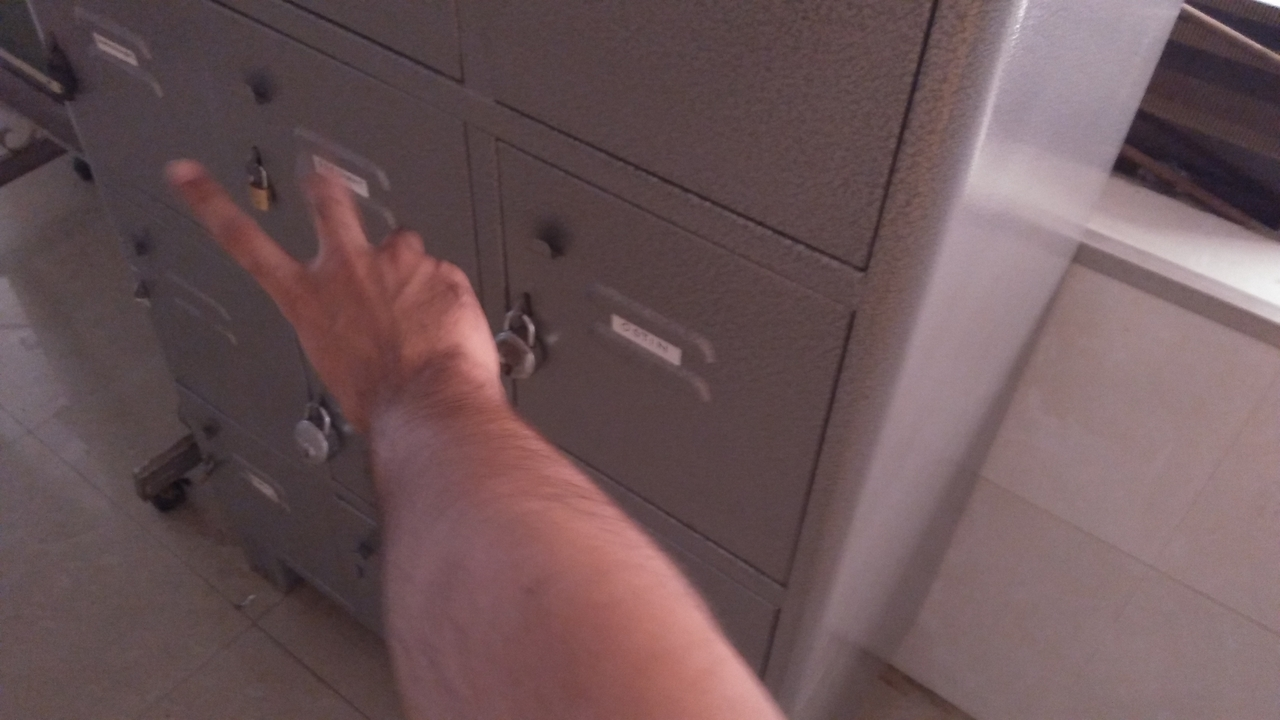fingertip: (152, 150, 216, 200)
